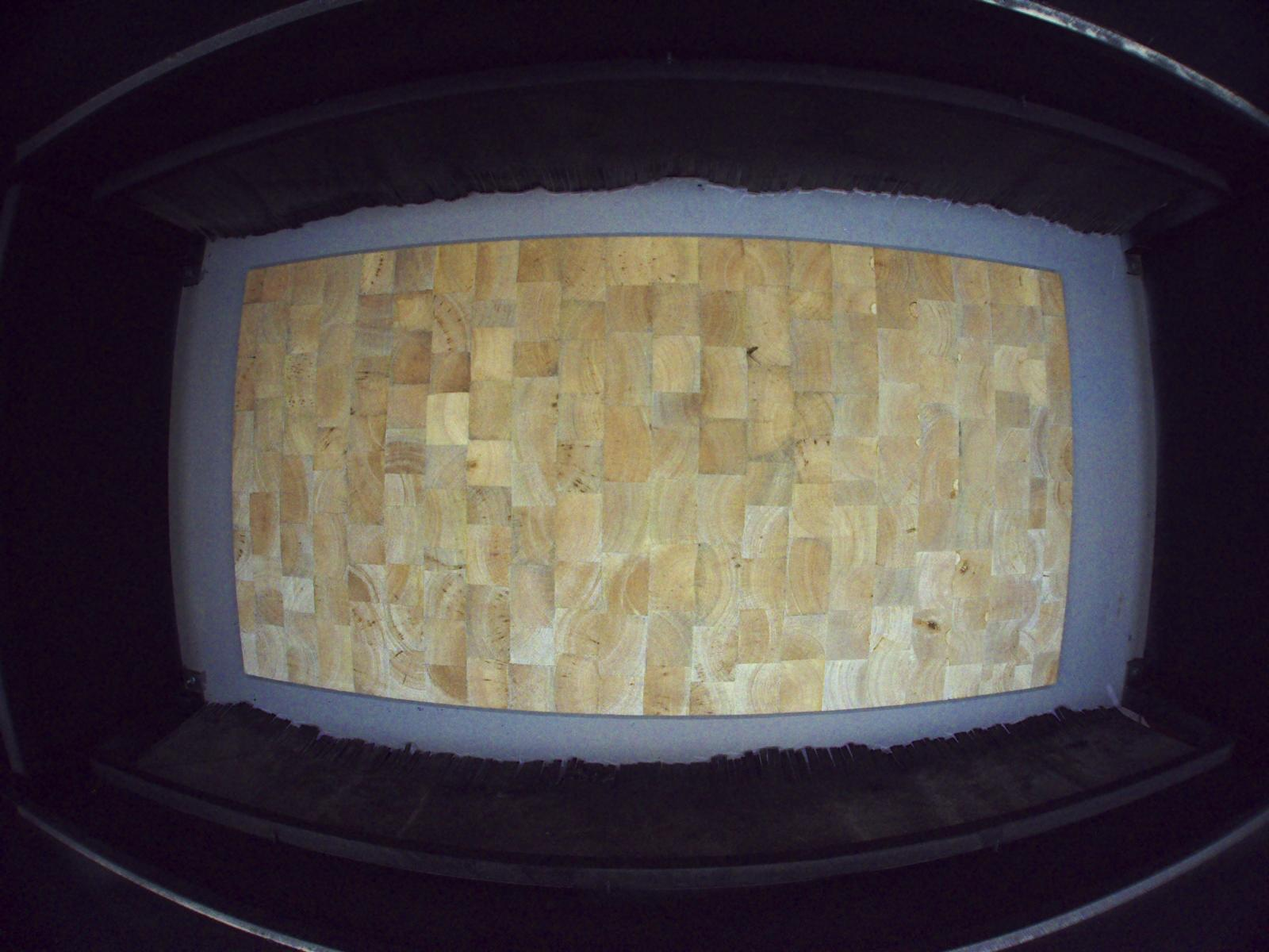nudillo: (912, 617, 942, 635)
sheck_ecuatoriano: (747, 346, 763, 366)
